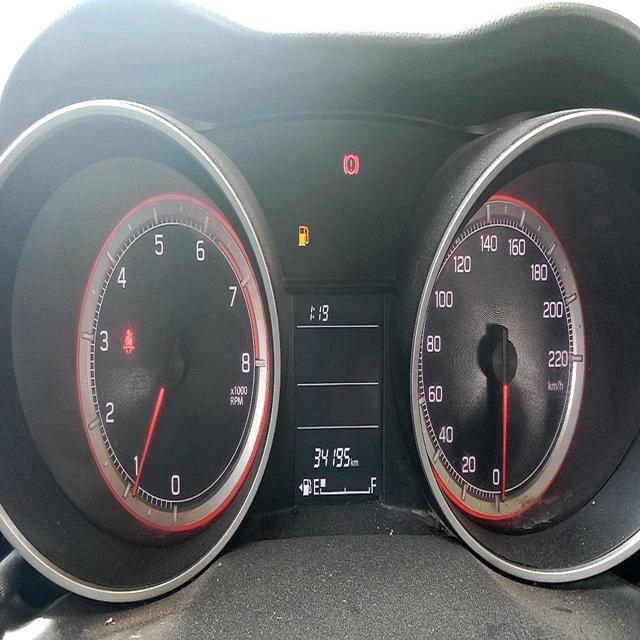odometer: (310, 440, 352, 472)
